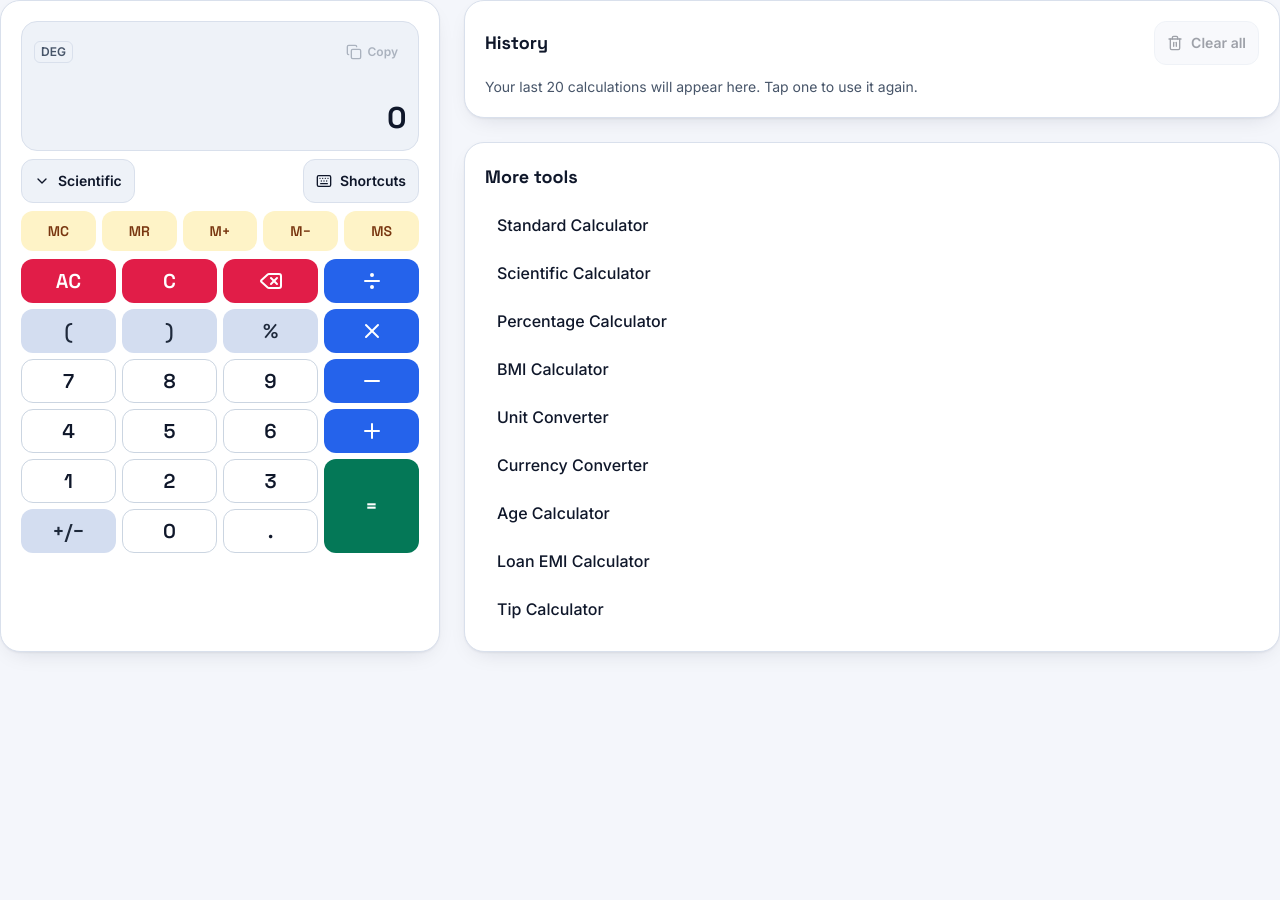
Test: Calculator component › shows a readable message for divide by zero
Click the button "5" at (170, 431), box [122,409,217,453]
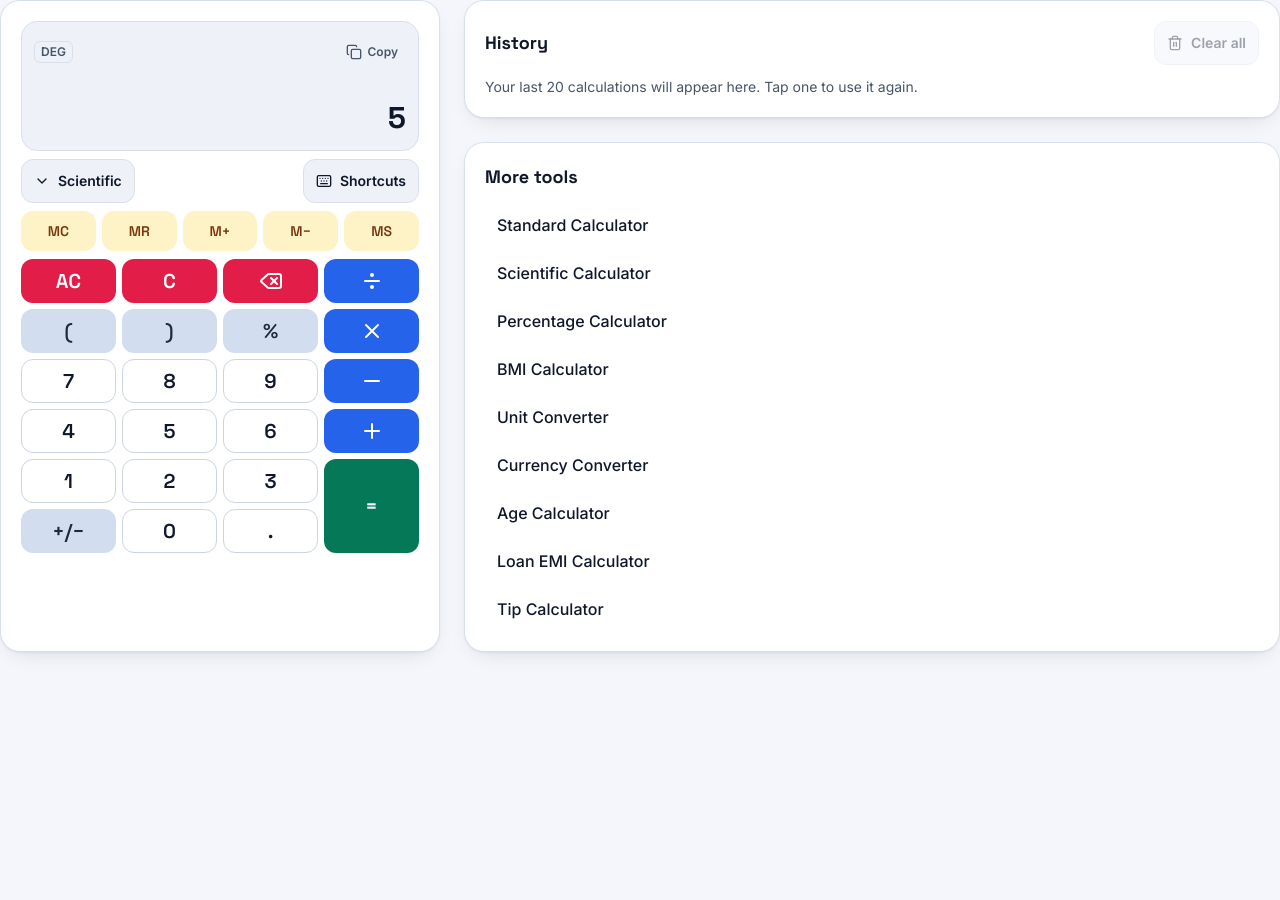
Click the button named "Divide" at (372, 281), box [324,259,419,303]
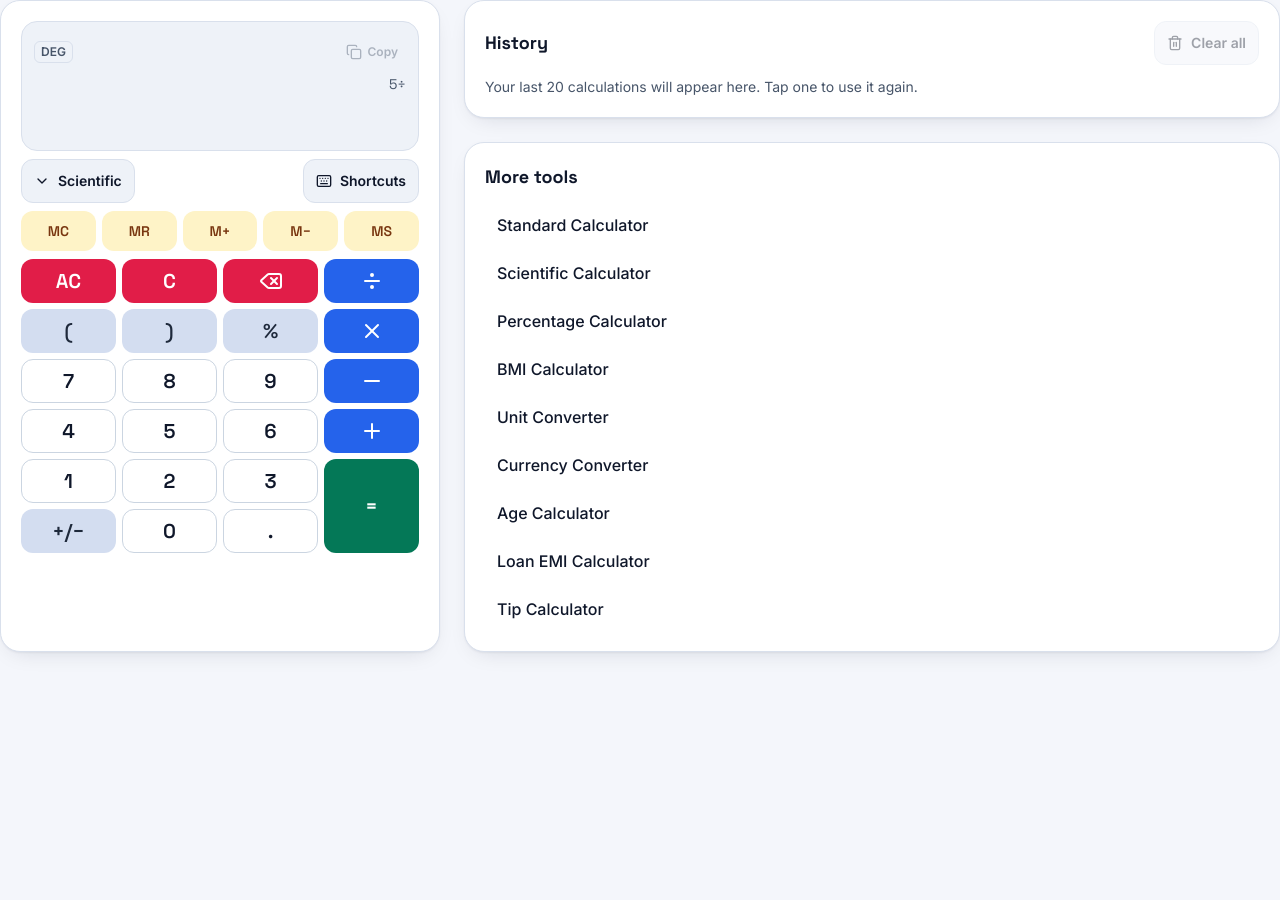
Click the button "0" at (170, 531), box [122,509,217,553]
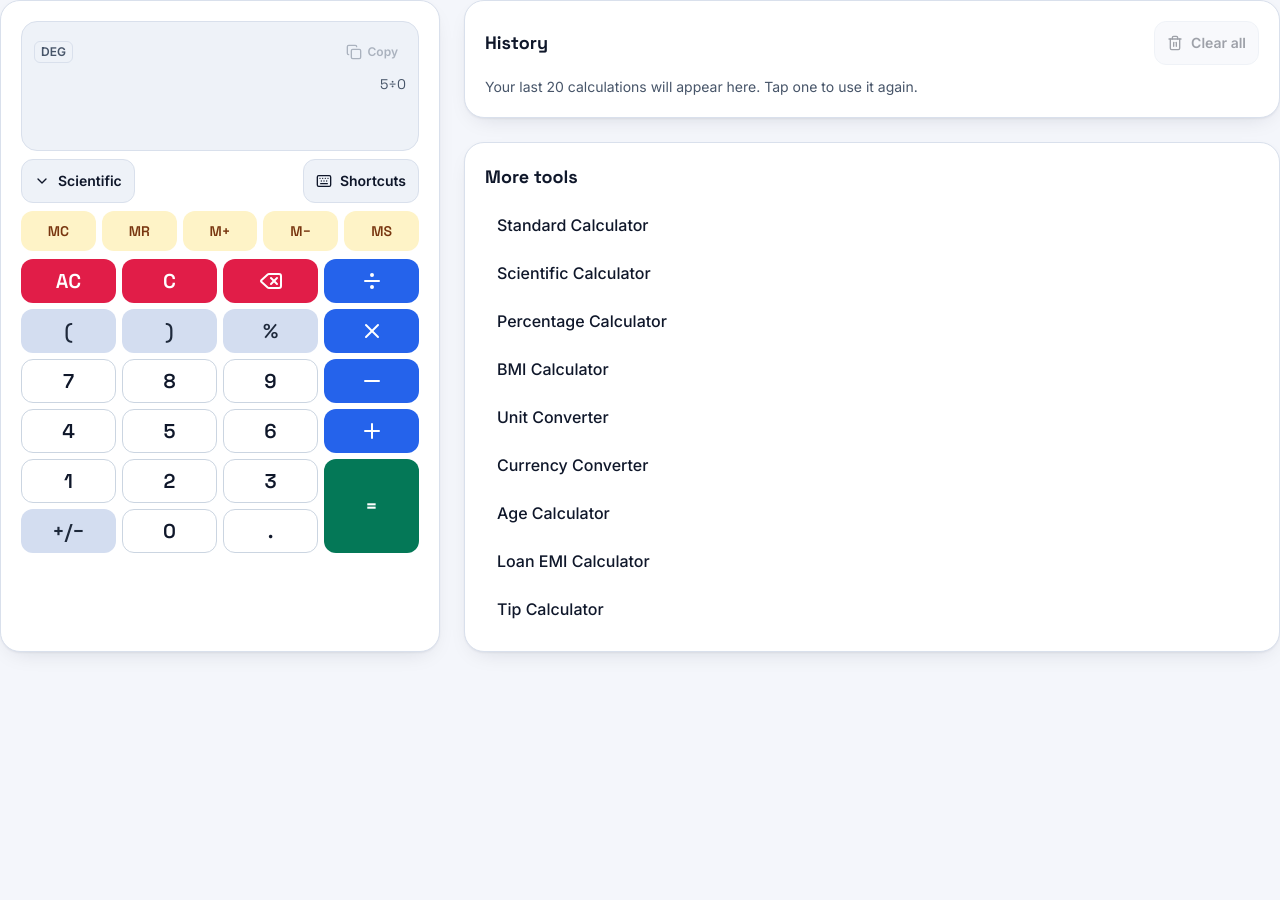
Click the button named "Equals" at (372, 506), box [324,459,419,553]
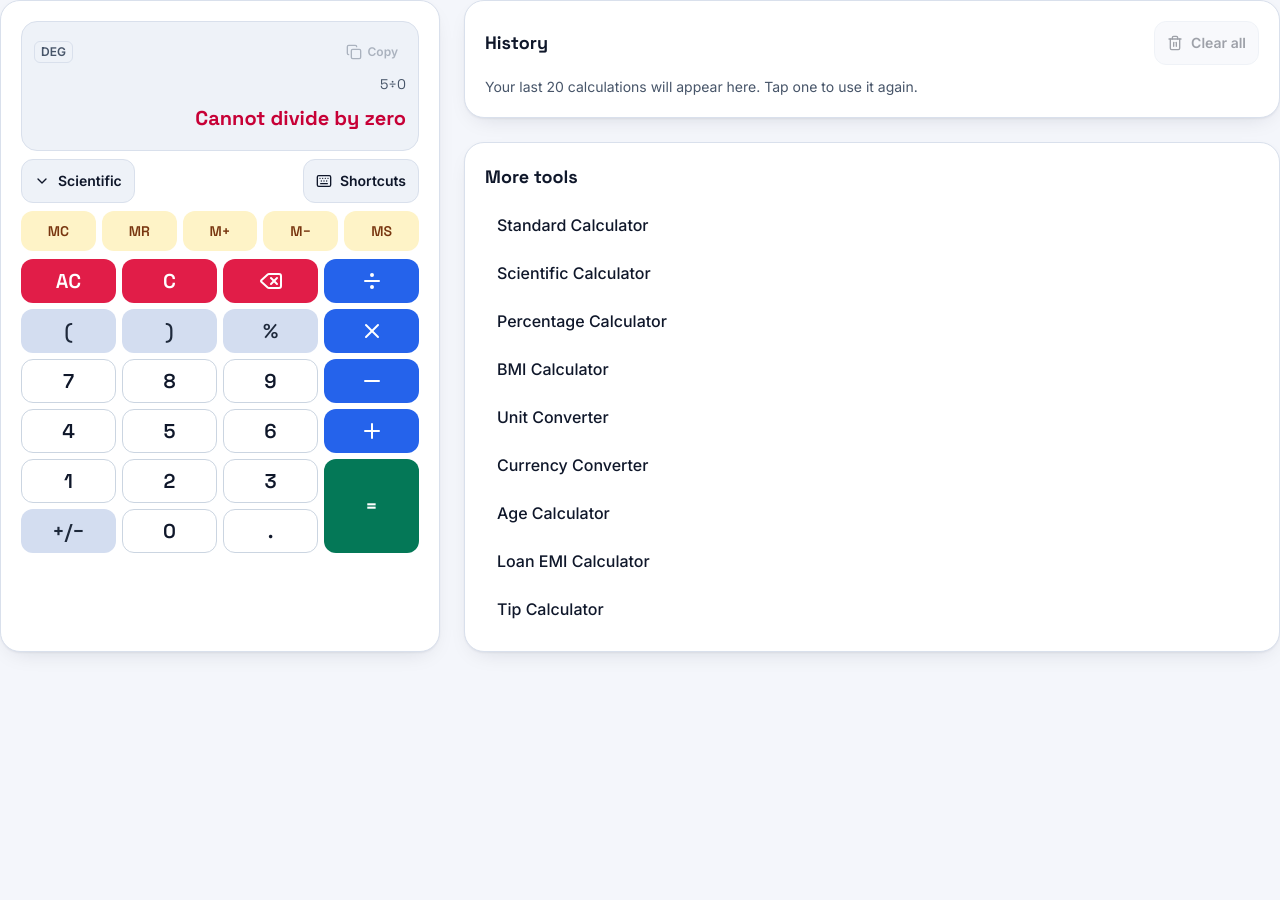
Now the text "Cannot divide by zero" is shown, box [195,105,406,131]
